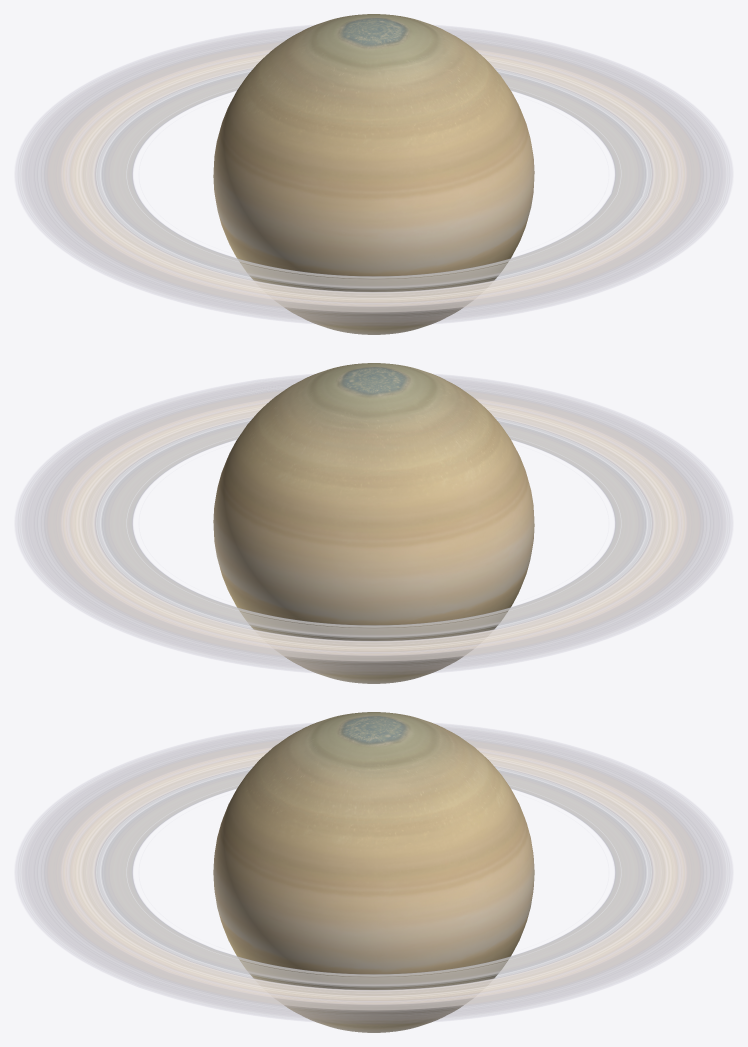
Rendered from saturn.gltf.
3 renders of one model, top to bottom at view 1: azimuth 30°, elevation 25°; view 2: azimuth 150°, elevation 25°; view 3: azimuth 270°, elevation 25°, orthographic.
Parts seen in each view (by area): view 1: Saturn Rings_Material #63_0; view 2: Saturn Rings_Material #63_0; view 3: Saturn Rings_Material #63_0.
Part boxes in pixels (x1,y1,x2,y2): Saturn Rings_Material #63_0: [15, 14, 732, 334]; Saturn Rings_Material #63_0: [15, 363, 732, 683]; Saturn Rings_Material #63_0: [15, 712, 732, 1032].
Size of the model in its own units: 22.41 by 10 by 22.41.
Materials: 2 (2 with a texture image).
